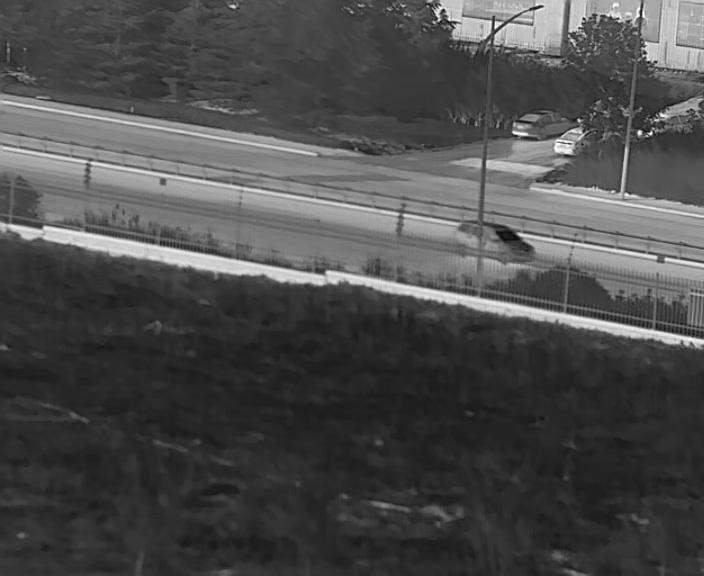vehicle: (452, 223, 534, 264), (511, 109, 564, 141), (553, 126, 591, 154)
